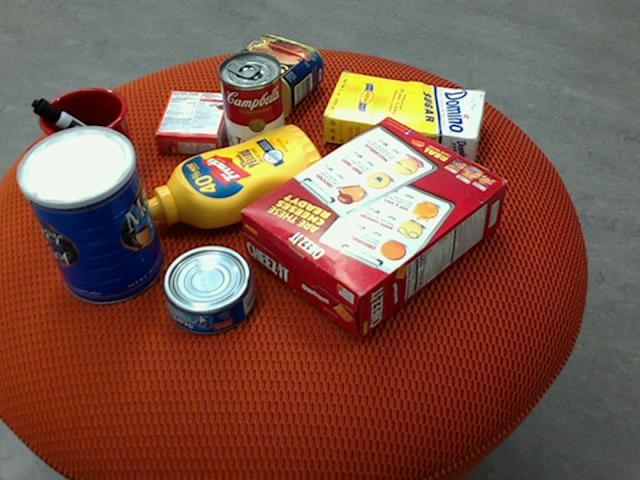cracker_box: (240, 115, 508, 337)
gelatin_box: (154, 89, 233, 154)
large_marker: (31, 99, 133, 167)
master_chef_can: (14, 126, 164, 305)
mug: (30, 88, 136, 192)
mustard_bottle: (139, 124, 327, 229)
potted_meat_can: (219, 35, 324, 118)
sugar_box: (322, 72, 487, 162)
tomato_soup_can: (218, 50, 285, 159)
tuna_fish_can: (162, 246, 256, 336)
